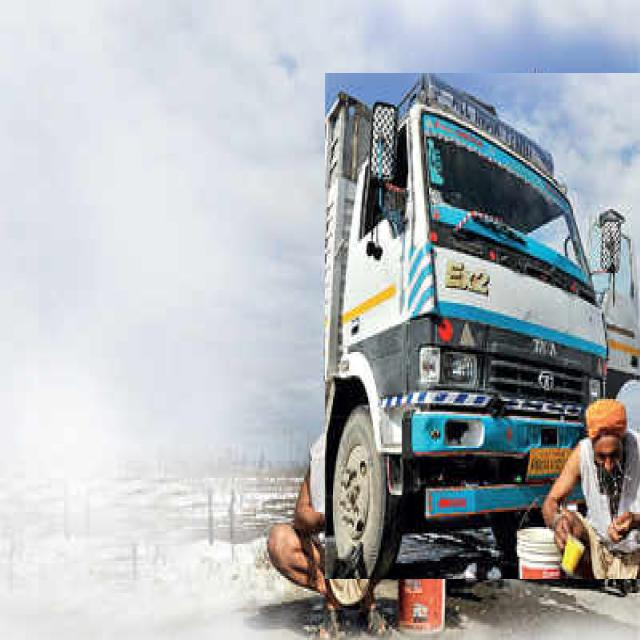truck: (325, 74, 640, 579)
